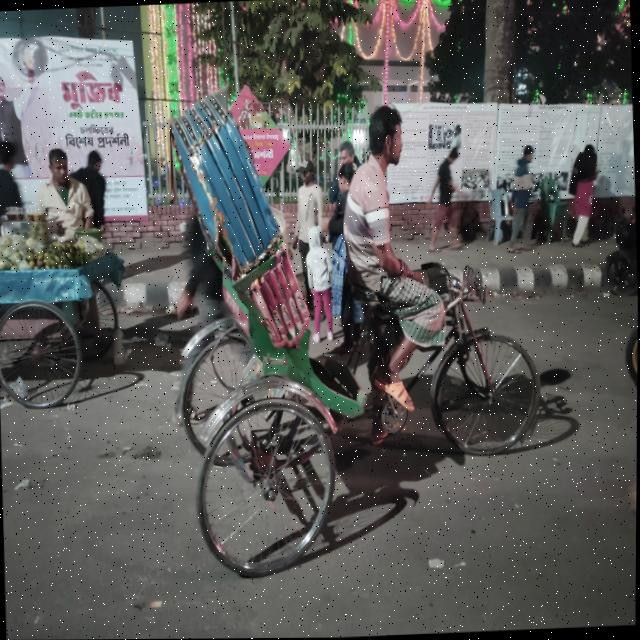rikshaw: (160, 79, 544, 639)
